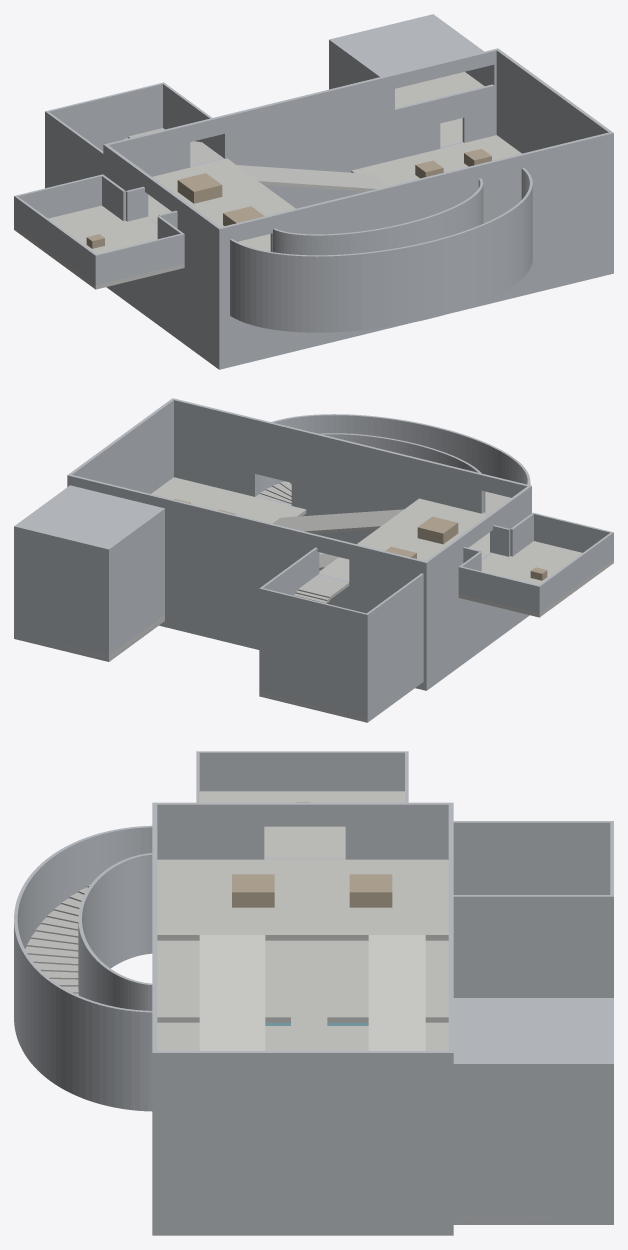
The model's file is Sewer.glb.
The picture shows the model from 3 angles, top to bottom: view 1: azimuth 30°, elevation 25°; view 2: azimuth 150°, elevation 25°; view 3: azimuth 270°, elevation 25°; orthographic projection. The views are drawn at different scales.
Parts seen in each view (by area): view 1: Sewer_Wall, Sewer_Floor, Sewer_Crate, Sewer_Stair; view 2: Sewer_Wall, Sewer_Floor, Sewer_Stair, Sewer_Crate; view 3: Sewer_Wall, Sewer_Floor, Sewer_Stair, Sewer_Crate.
Part boxes in pixels (x1=…): Sewer_Wall: x1=14, y1=14, x2=613, y2=369; Sewer_Floor: x1=14, y1=72, x2=521, y2=289; Sewer_Crate: x1=86, y1=148, x2=491, y2=248; Sewer_Stair: x1=123, y1=128, x2=222, y2=165; Sewer_Wall: x1=14, y1=398, x2=613, y2=722; Sewer_Floor: x1=51, y1=477, x2=613, y2=722; Sewer_Stair: x1=257, y1=481, x2=510, y2=603; Sewer_Crate: x1=174, y1=499, x2=547, y2=580; Sewer_Wall: x1=14, y1=751, x2=613, y2=1235; Sewer_Floor: x1=157, y1=791, x2=553, y2=1221; Sewer_Stair: x1=25, y1=885, x2=89, y2=995; Sewer_Crate: x1=232, y1=802, x2=392, y2=907.
Bounding box in the file's own units: 62 × 16.6 × 49.4.
